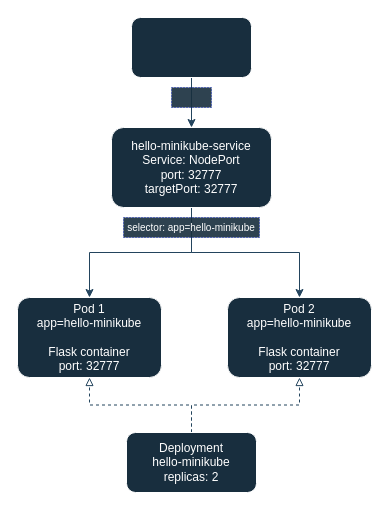
Image size: 389x510. Some labels were removed from this diagram. The shapes that lost their labels are listed below. From the top down, each one's box as (x1, y1, x2, y2) in pixels, then its label:
(130, 16, 252, 78): Browser
(170, 86, 212, 108): HTTP
